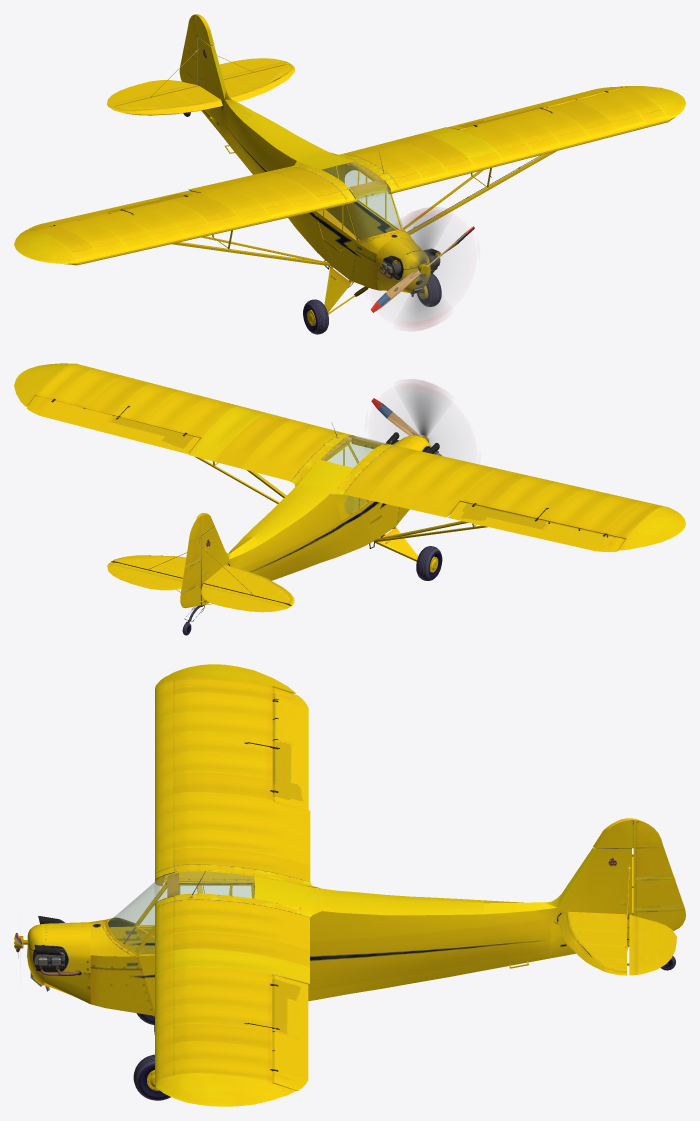
Rendered from J3Cub.glb.
3 views of the same model, one above another, from view 1: azimuth 30°, elevation 25°; view 2: azimuth 150°, elevation 25°; view 3: azimuth 270°, elevation 25° (orthographic). The views are drawn at different scales.
Parts seen in each view (by area): view 1: body, wing_left, wing_right, tail, propeller_blades, elevator, gear_right, rudder, aileron_left, aileron_right, gear_left; view 2: wing_left, wing_right, body, tail, aileron_left, aileron_right, elevator, propeller_blades, rudder, gear_right; view 3: body, wing_right, wing_left, tail, rudder, aileron_right, aileron_left, elevator, gear_left.
Part boxes in pixels (x1,y1,x2,y2): body: (181, 99, 547, 296); wing_left: (339, 86, 685, 234); wing_right: (14, 166, 351, 265); tail: (111, 37, 294, 136); propeller_blades: (370, 207, 474, 330); elevator: (107, 58, 290, 107); gear_right: (303, 265, 355, 334); rudder: (179, 14, 214, 84); aileron_left: (448, 87, 624, 129); aileron_right: (27, 191, 199, 230); gear_left: (417, 273, 441, 306); wing_left: (14, 363, 350, 502); wing_right: (345, 445, 685, 550); body: (195, 422, 486, 580); tail: (111, 526, 294, 623); aileron_left: (26, 395, 200, 453); aileron_right: (448, 502, 625, 552); elevator: (107, 562, 290, 612); propeller_blades: (371, 379, 441, 455); rudder: (180, 513, 214, 608); gear_right: (373, 528, 442, 580); body: (27, 863, 556, 1034); wing_right: (155, 664, 310, 893); wing_left: (155, 896, 311, 1106); tail: (547, 847, 668, 975); rudder: (593, 818, 685, 930); aileron_right: (272, 687, 308, 809); aileron_left: (272, 975, 308, 1090); elevator: (629, 854, 676, 975); gear_left: (133, 1054, 170, 1100).
Size of the model in its own units: 10.65 by 2.73 by 6.86.
Materials: 11 (8 with a texture image).
